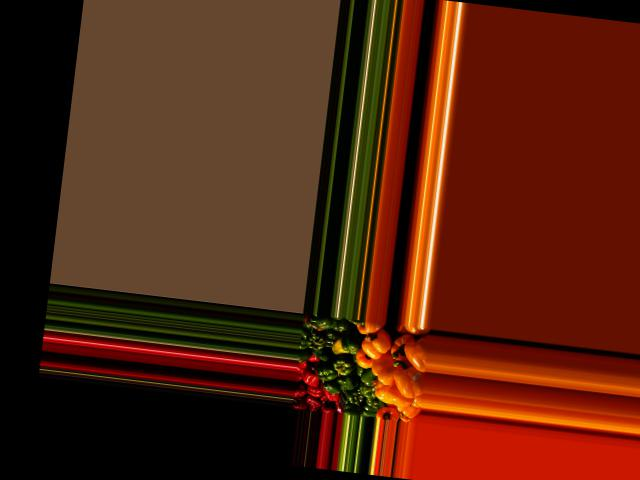bell_pepper: (301, 312, 326, 331)
